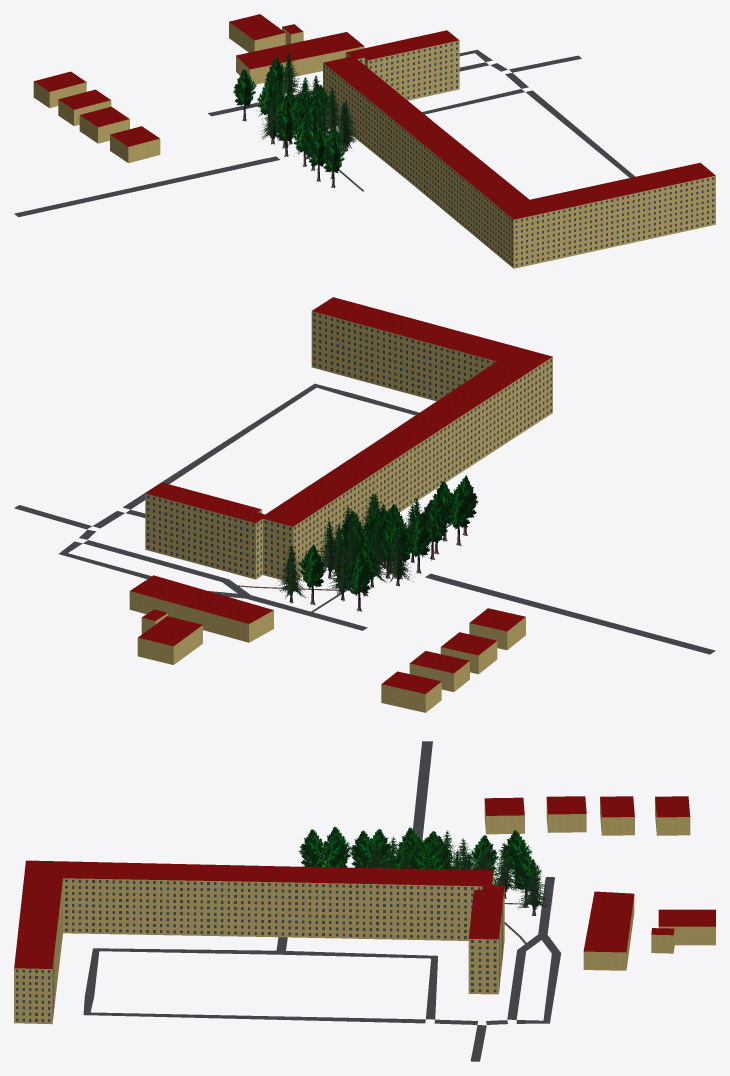
File: district_-1_2.glb
The picture shows the model from 3 angles, top to bottom: view 1: azimuth 30°, elevation 25°; view 2: azimuth 150°, elevation 25°; view 3: azimuth 270°, elevation 25°; orthographic projection. The views are drawn at different scales.
Visible parts, largest first — view 1: Building w44036095, Forest w645553022, Building w1194369155, Building w626198765, Building w44036141, Road w40942437, Building w44036155, Building w44036184, Building w44036172, Road w163706480, Road w40942441, Road w163706766; view 2: Building w44036095, Forest w645553022, Building w1194369155, Building w626198765, Road w163706480, Building w44036184, Road w40942441, Road w40942437, Building w44036172, Building w44036141, Building w44036155, Road w163706478; view 3: Building w44036095, Forest w645553022, Building w1194369155, Road w163706480, Building w626198765, Road w40942441, Building w44036155, Building w44036141, Building w44036184, Building w44036172, Road w163706766, Road w40942437 (+2 smaller).
Part boxes in pixels (x1=…): Building w44036095: x1=323, y1=30, x2=715, y2=268; Forest w645553022: x1=233, y1=52, x2=359, y2=187; Building w1194369155: x1=236, y1=32, x2=364, y2=84; Building w626198765: x1=229, y1=14, x2=285, y2=52; Building w44036141: x1=110, y1=126, x2=160, y2=163; Road w40942437: x1=14, y1=159, x2=264, y2=217; Building w44036155: x1=79, y1=106, x2=129, y2=143; Building w44036184: x1=33, y1=71, x2=86, y2=108; Building w44036172: x1=58, y1=89, x2=111, y2=125; Road w163706480: x1=505, y1=72, x2=635, y2=177; Road w40942441: x1=223, y1=49, x2=581, y2=112; Road w163706766: x1=422, y1=89, x2=524, y2=114; Building w44036095: x1=145, y1=297, x2=552, y2=580; Forest w645553022: x1=278, y1=475, x2=478, y2=611; Building w1194369155: x1=129, y1=575, x2=273, y2=642; Building w626198765: x1=137, y1=616, x2=202, y2=664; Road w163706480: x1=92, y1=383, x2=419, y2=528; Building w44036184: x1=381, y1=671, x2=441, y2=712; Road w40942441: x1=14, y1=505, x2=350, y2=626; Road w40942437: x1=442, y1=578, x2=715, y2=654; Building w44036172: x1=409, y1=651, x2=469, y2=691; Building w44036141: x1=469, y1=608, x2=525, y2=650; Building w44036155: x1=440, y1=632, x2=497, y2=674; Road w163706478: x1=83, y1=540, x2=245, y2=593; Building w44036095: x1=14, y1=860, x2=504, y2=1024; Forest w645553022: x1=298, y1=826, x2=551, y2=915; Building w1194369155: x1=583, y1=891, x2=634, y2=970; Road w163706480: x1=83, y1=948, x2=477, y2=1024; Building w626198765: x1=658, y1=909, x2=715, y2=945; Road w40942441: x1=470, y1=885, x2=561, y2=1061; Building w44036155: x1=546, y1=796, x2=586, y2=832; Building w44036141: x1=484, y1=797, x2=524, y2=834; Building w44036184: x1=655, y1=796, x2=690, y2=835; Building w44036172: x1=600, y1=796, x2=634, y2=835; Road w163706766: x1=276, y1=937, x2=437, y2=1019; Road w40942437: x1=413, y1=741, x2=432, y2=840.
Size of the model in its own units: 281 by 24.31 by 260.
6 materials, 6 textured.
